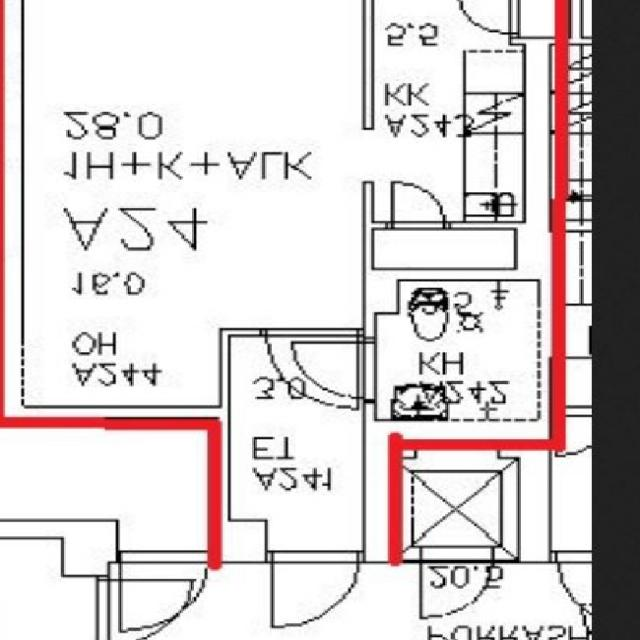door: (267, 329, 358, 407), (273, 551, 358, 629), (292, 343, 377, 398), (393, 182, 445, 229), (458, 0, 519, 34)
